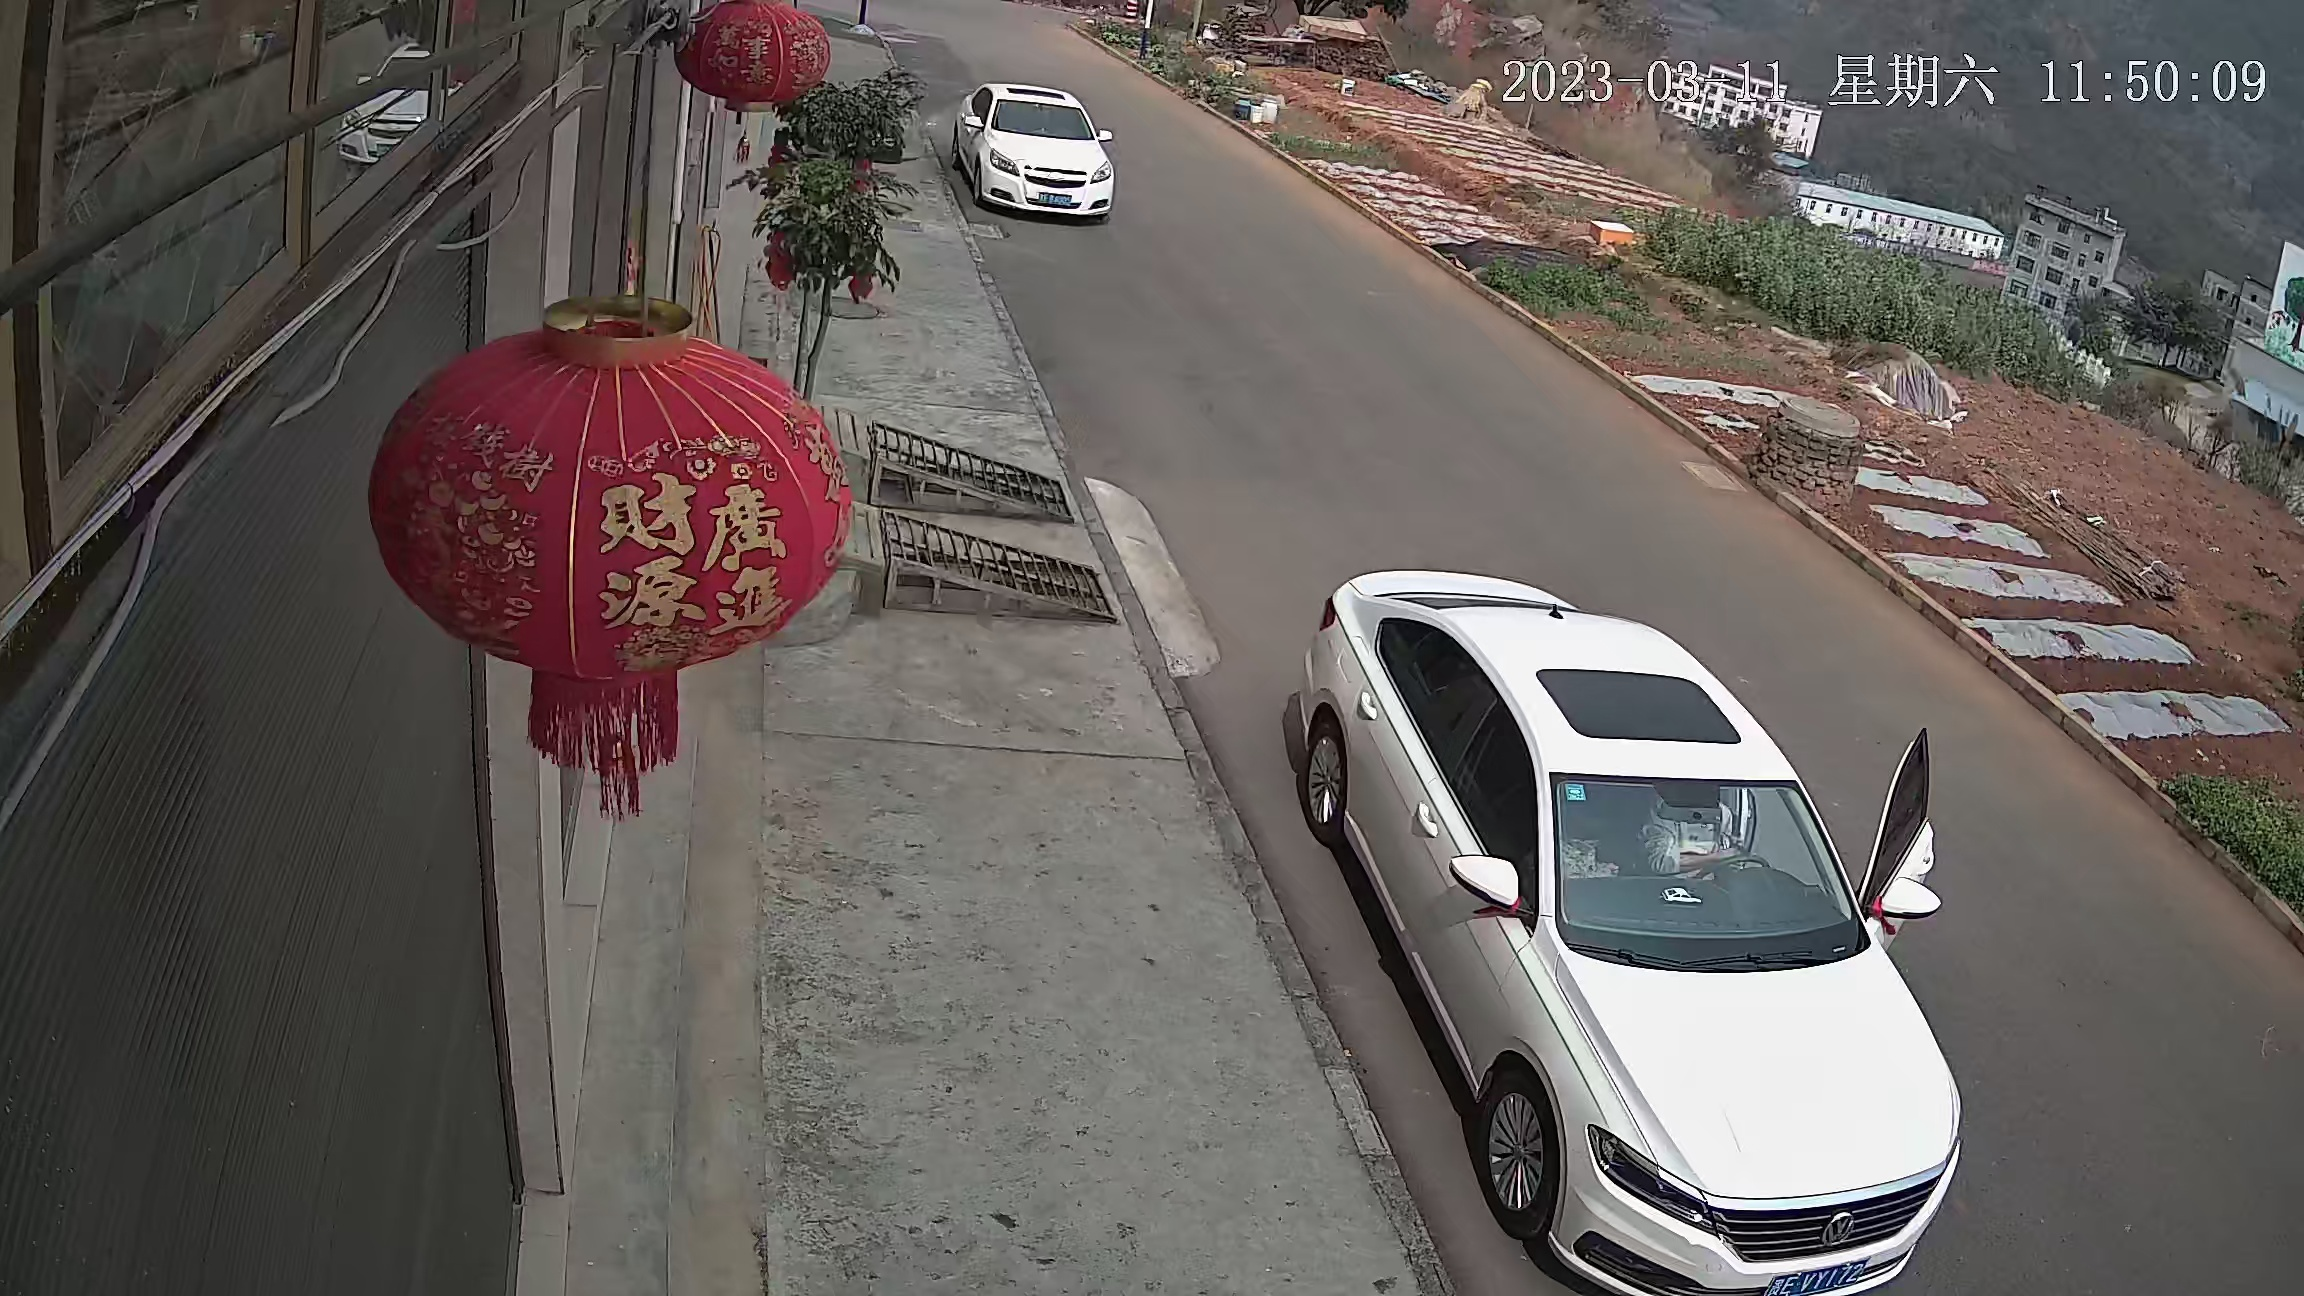sedan: (1291, 567, 1981, 1279), (951, 78, 1122, 234)
